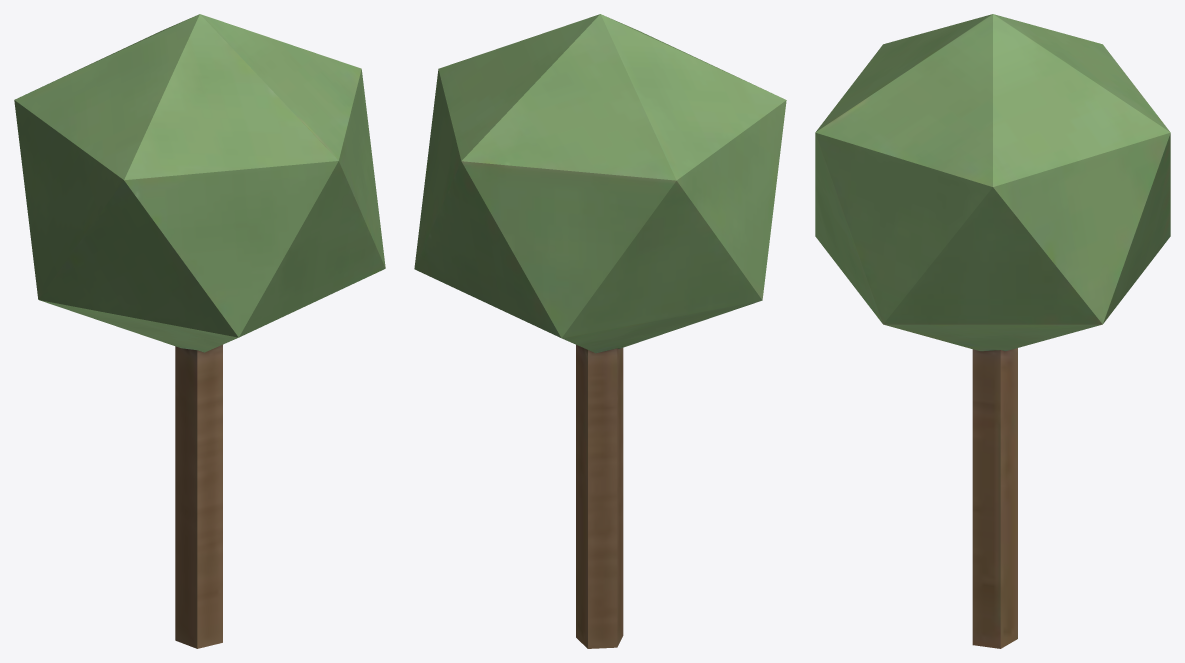
Rendered from life-plant-garden-tree.glb.
3 renders of one model, left to right at view 1: azimuth 30°, elevation 25°; view 2: azimuth 150°, elevation 25°; view 3: azimuth 270°, elevation 25°, orthographic.
Visible parts, largest first — view 1: life-plant-garden-tree; view 2: life-plant-garden-tree; view 3: life-plant-garden-tree.
Part boxes in pixels (left/top/right/bottom): life-plant-garden-tree: left=14, top=14, right=385, bottom=648; life-plant-garden-tree: left=414, top=14, right=786, bottom=648; life-plant-garden-tree: left=815, top=14, right=1170, bottom=648.
Size of the model in its own units: 0.2683 by 0.495 by 0.2552.
Materials: 1 (1 with a texture image).
